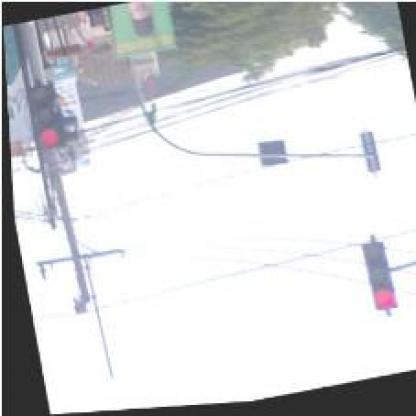red: (354, 243, 394, 318), (26, 82, 58, 150)
